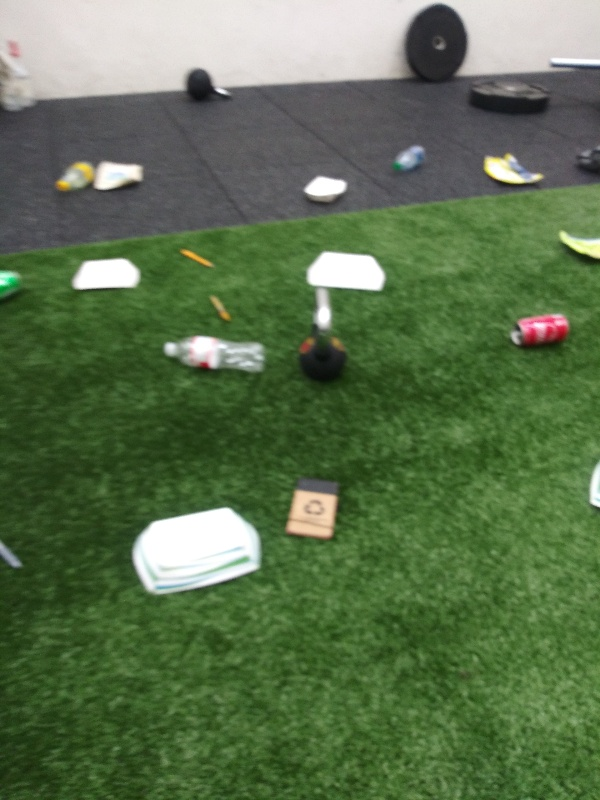bag: (477, 149, 549, 192), (87, 158, 148, 196), (552, 226, 600, 267)
bottle: (155, 334, 266, 380), (50, 155, 96, 198), (393, 140, 429, 172)
can: (506, 306, 575, 349), (1, 261, 28, 308)
plate: (130, 503, 266, 602), (303, 249, 390, 297), (70, 254, 143, 296), (301, 173, 353, 206), (588, 460, 600, 518)
